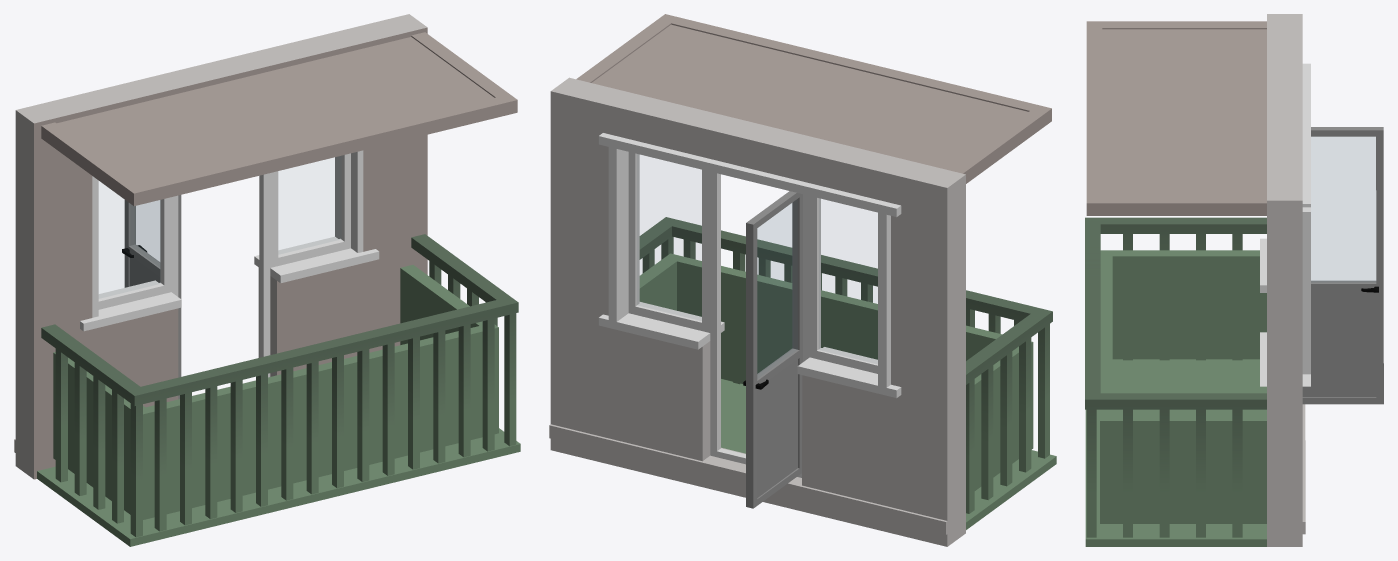
File: Hub_3_balcony_type1.FBX
3 views of the same model, side by side, from view 1: azimuth 30°, elevation 25°; view 2: azimuth 150°, elevation 25°; view 3: azimuth 270°, elevation 25° (orthographic). The views are drawn at different scales.
Parts seen in each view (by area): view 1: Hub_3_balcony_type1_01, Balcony_door_023; view 2: Hub_3_balcony_type1_01, Balcony_door_023; view 3: Hub_3_balcony_type1_01, Balcony_door_023.
Boxes of the visible parts, x1,y1,x2,y2 form: Hub_3_balcony_type1_01: (14, 14, 520, 546); Balcony_door_023: (122, 195, 181, 399); Hub_3_balcony_type1_01: (549, 14, 1056, 546); Balcony_door_023: (743, 191, 802, 508); Hub_3_balcony_type1_01: (1085, 14, 1310, 546); Balcony_door_023: (1302, 127, 1383, 404).
Size of the model in its own units: 813 by 703 by 549.
Materials: 4 (1 with a texture image).
